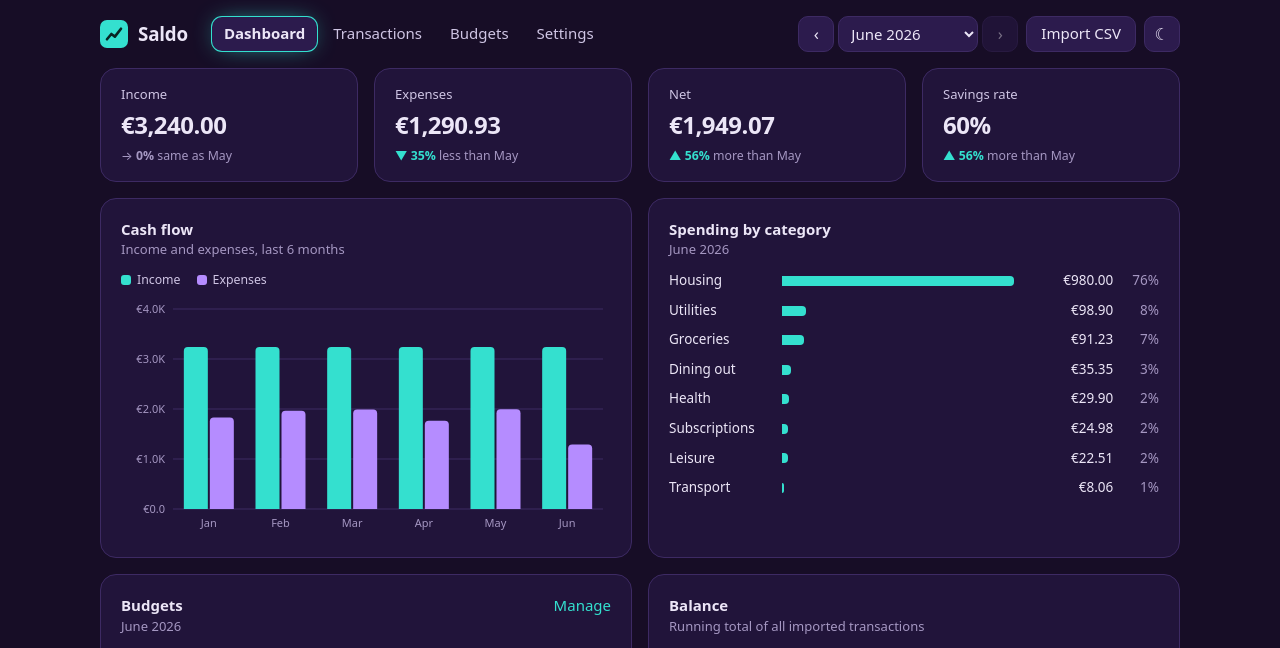
shows the summary of the selected month and navigates between months
Expected: the heading "Income" is shown, [121,85,167,103]
Expected: the heading "Savings rate" is shown, [943,85,1018,103]
Click the button named "Previous month". click: (816,34)
box: [798,16,834,52]
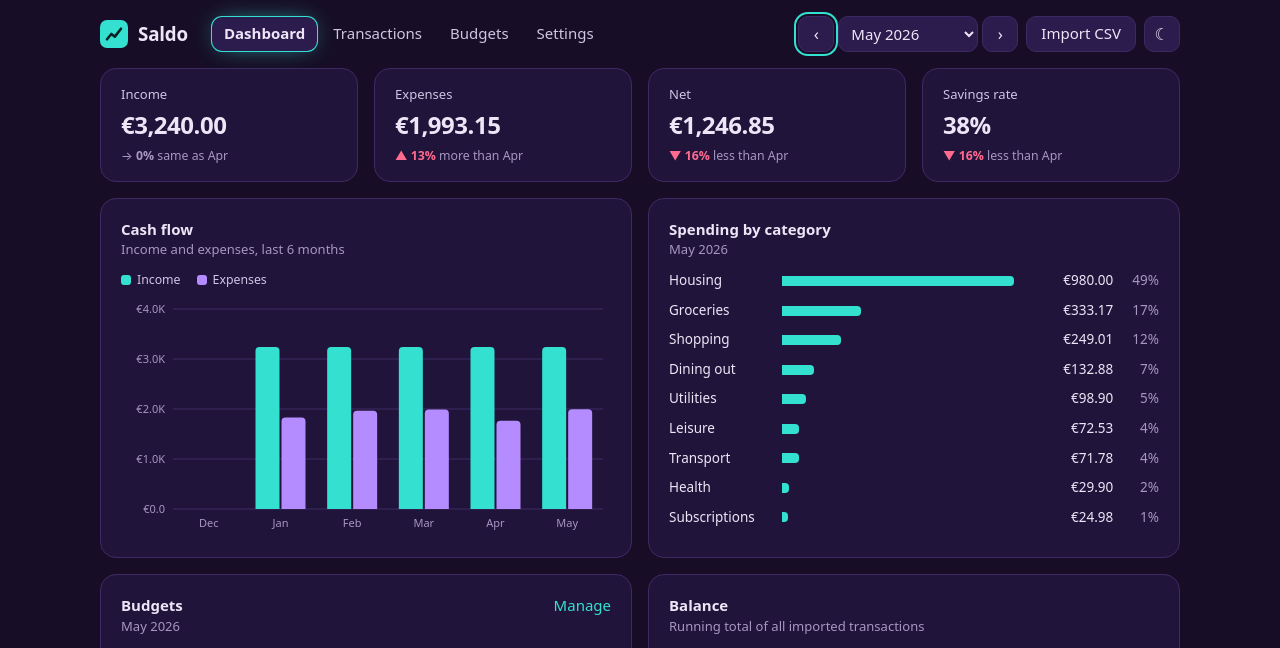
Expected: the element named "Summary for May 2026" is shown, [100,68,1180,182]
